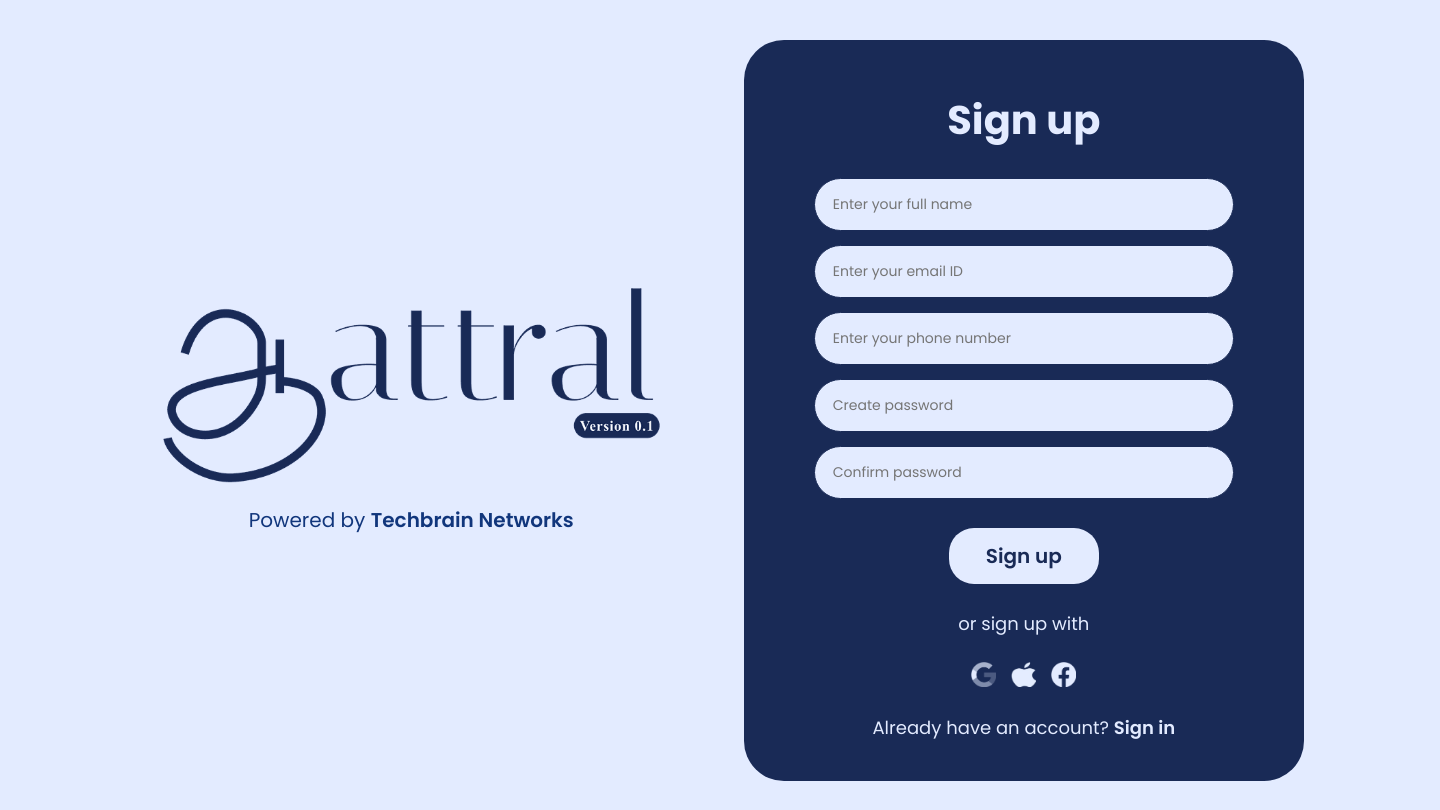
Signuppage Component Tests › shows validation errors when empty submit is clicked
The width and height of the screenshot is (1440, 810).
Click the button "Sign up". click: (1024, 556)
box: [949,528,1099,584]
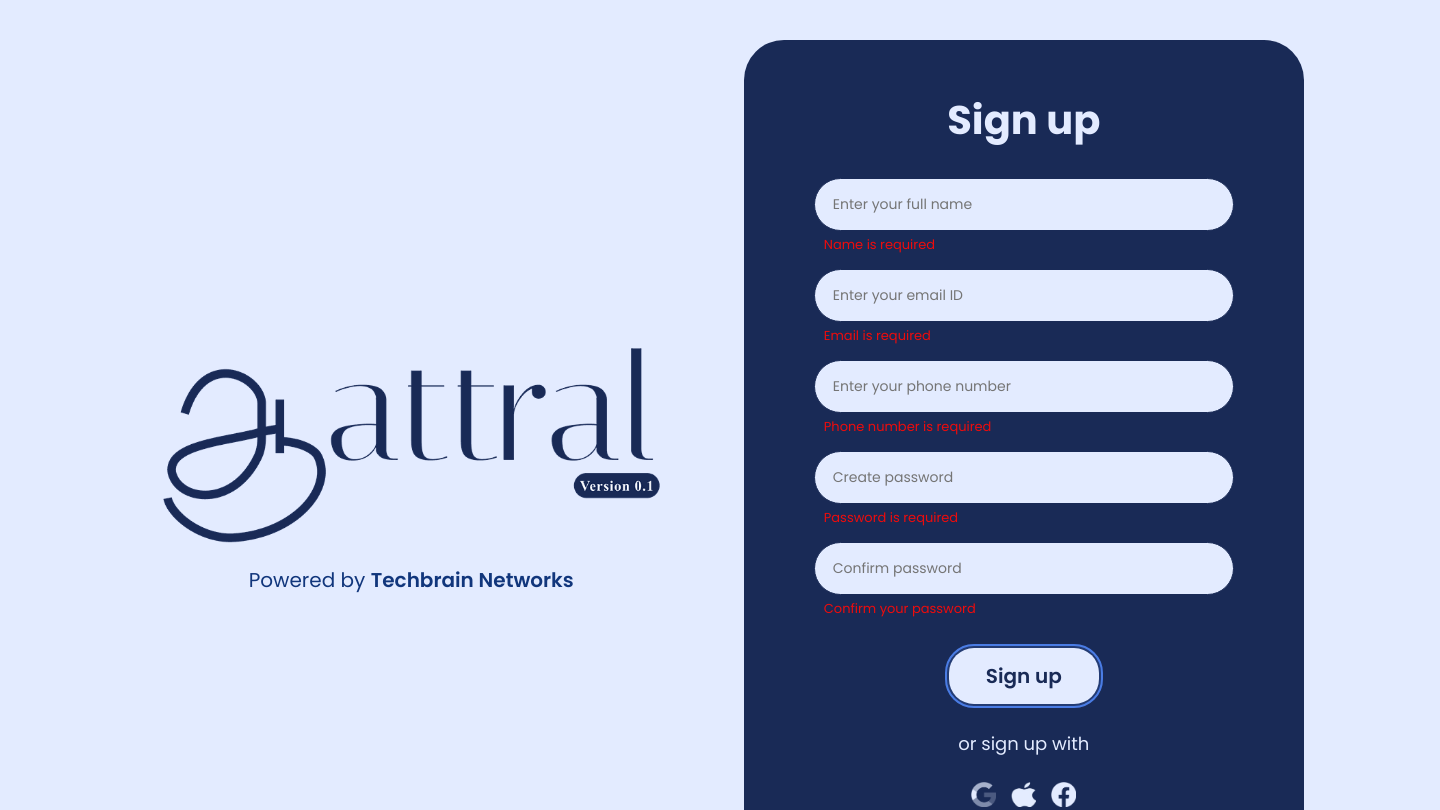
Expected: the text "Name is required" is shown, [824,235,935,254]
Expected: the text "Email is required" is shown, [824,326,931,345]
Expected: the text "Phone number is required" is shown, [824,417,991,436]
